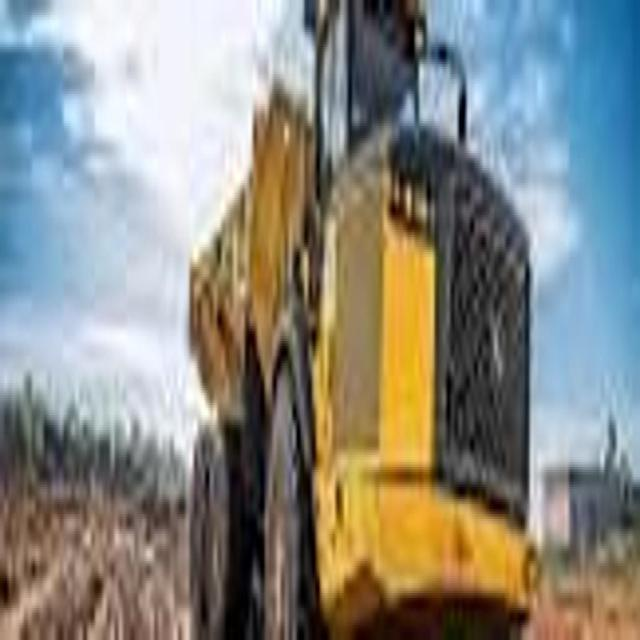dump_truck: (184, 0, 534, 640)
